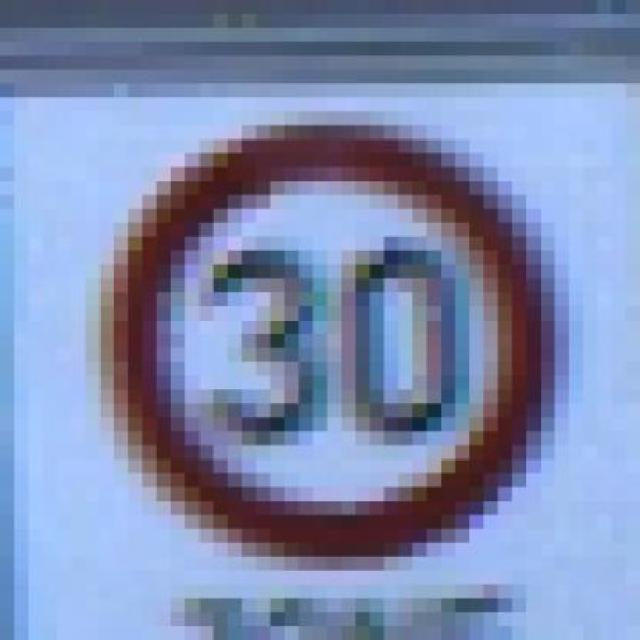forb_speed_over_30: (117, 128, 546, 560)
